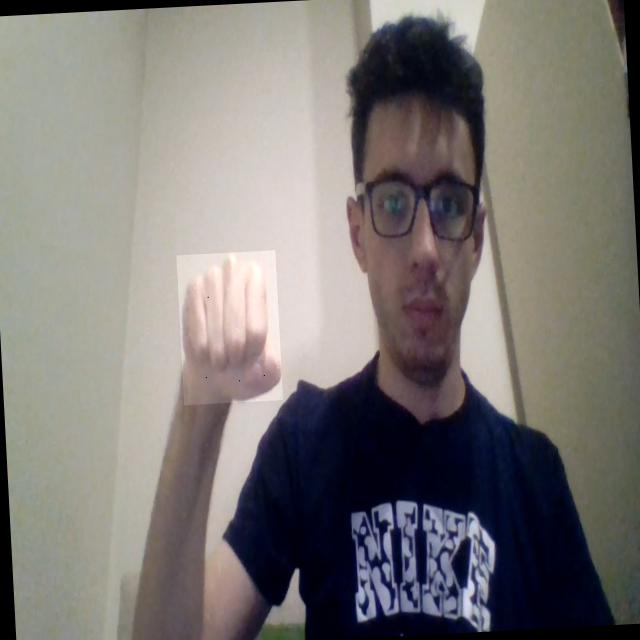yes: (176, 250, 284, 405)
